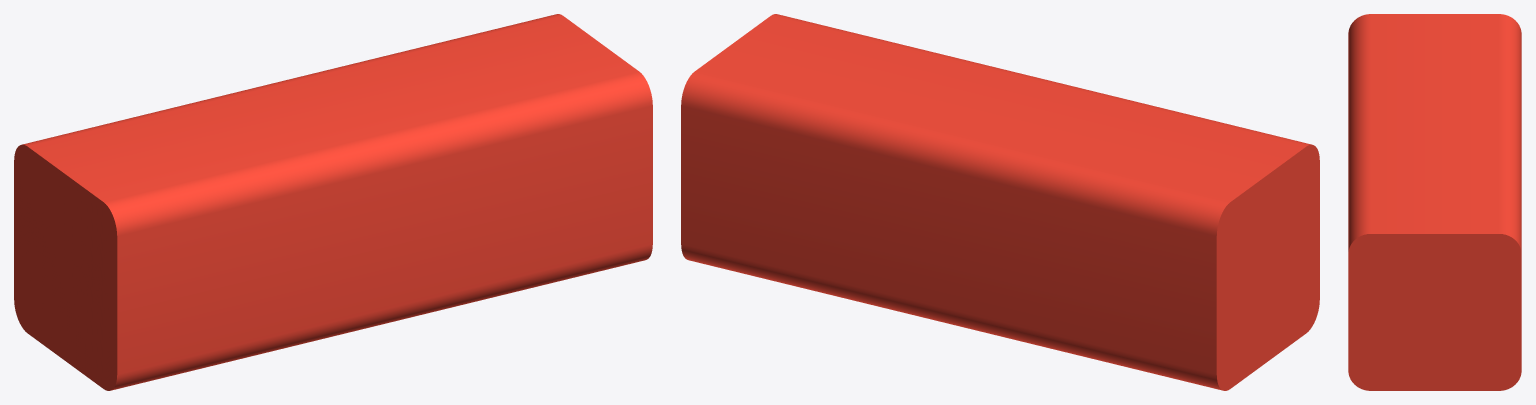
File: Wall Block A Red.fbx
3 renders of one model, left to right at view 1: azimuth 30°, elevation 25°; view 2: azimuth 150°, elevation 25°; view 3: azimuth 270°, elevation 25°, orthographic. The views are drawn at different scales.
Parts seen in each view (by area): view 1: Wall Block A Red; view 2: Wall Block A Red; view 3: Wall Block A Red.
Part boxes in pixels (x1,y1,x2,y2): Wall Block A Red: (14, 14, 652, 390); Wall Block A Red: (681, 14, 1319, 390); Wall Block A Red: (1348, 14, 1521, 390).
Size of the model in its own units: 300 by 100 by 100.
